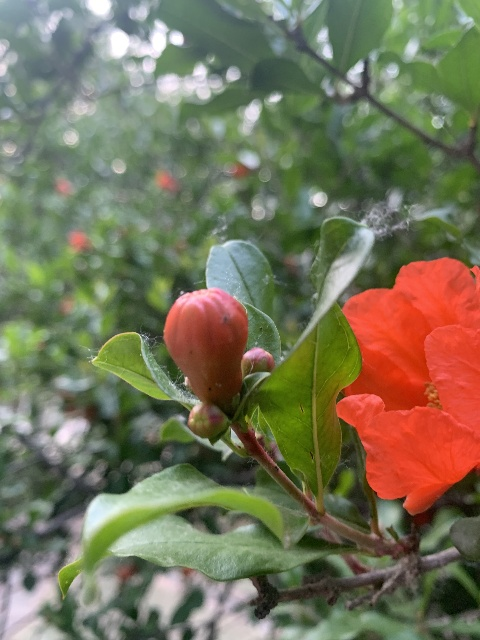bud: (163, 287, 248, 406), (188, 403, 225, 438), (243, 346, 274, 374)
flower: (335, 256, 479, 519)
